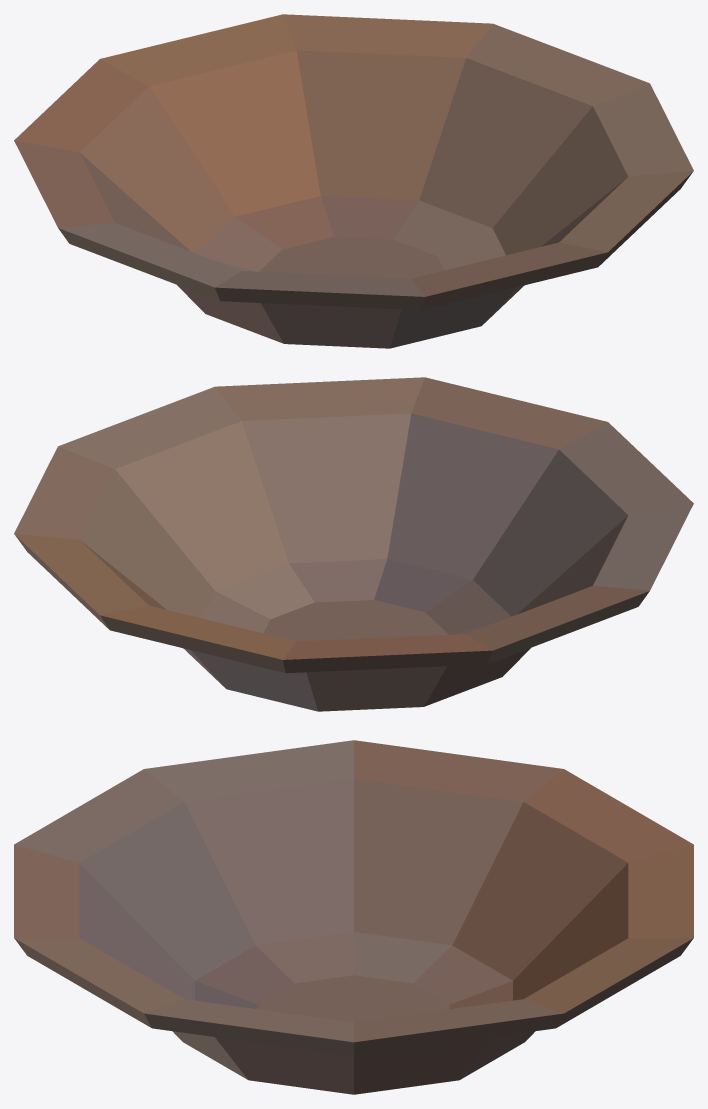
Rendered from Prop_BowlC.fbx.
The picture shows the model from 3 angles, top to bottom: view 1: azimuth 30°, elevation 25°; view 2: azimuth 150°, elevation 25°; view 3: azimuth 270°, elevation 25°; orthographic projection. The views are drawn at different scales.
Parts seen in each view (by area): view 1: Prop_BowlC; view 2: Prop_BowlC; view 3: Prop_BowlC.
Part boxes in pixels (x1=…): Prop_BowlC: x1=14, y1=14, x2=693, y2=348; Prop_BowlC: x1=14, y1=377, x2=693, y2=711; Prop_BowlC: x1=14, y1=740, x2=693, y2=1094.
Size of the model in its own units: 32.92 by 6.49 by 31.31.
